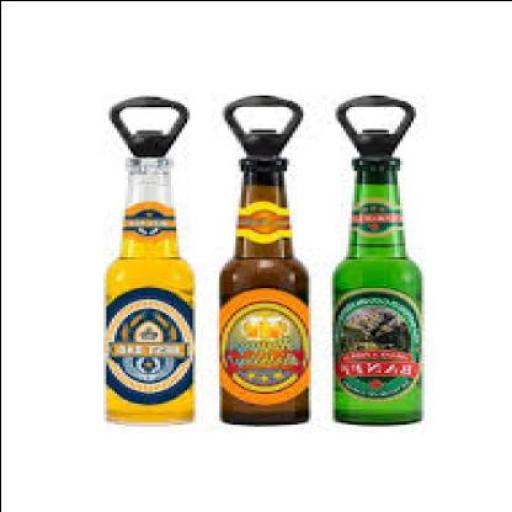glass: (224, 161, 314, 420), (104, 169, 194, 422), (337, 167, 426, 420)
metal: (239, 154, 291, 167), (130, 152, 172, 166), (353, 156, 404, 164)
plastic: (113, 90, 189, 152), (224, 90, 304, 148), (336, 94, 416, 151)
